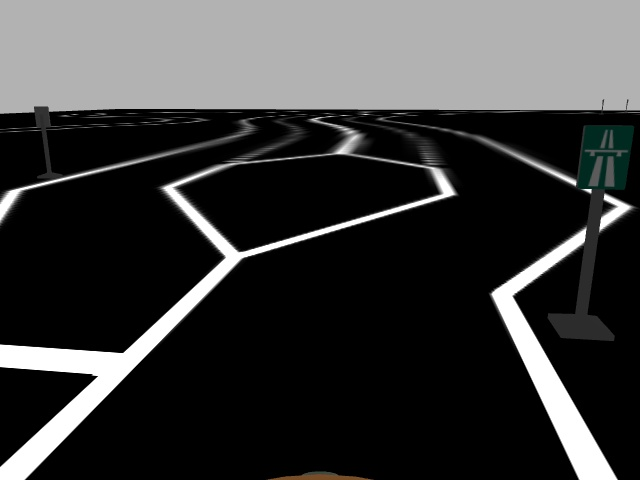enter_highway: (573, 124, 635, 190)
